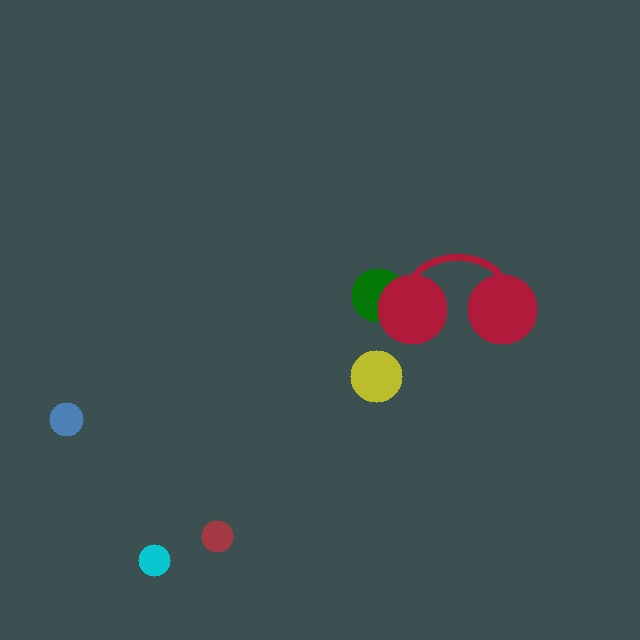over_ear: (373, 244, 541, 348)
